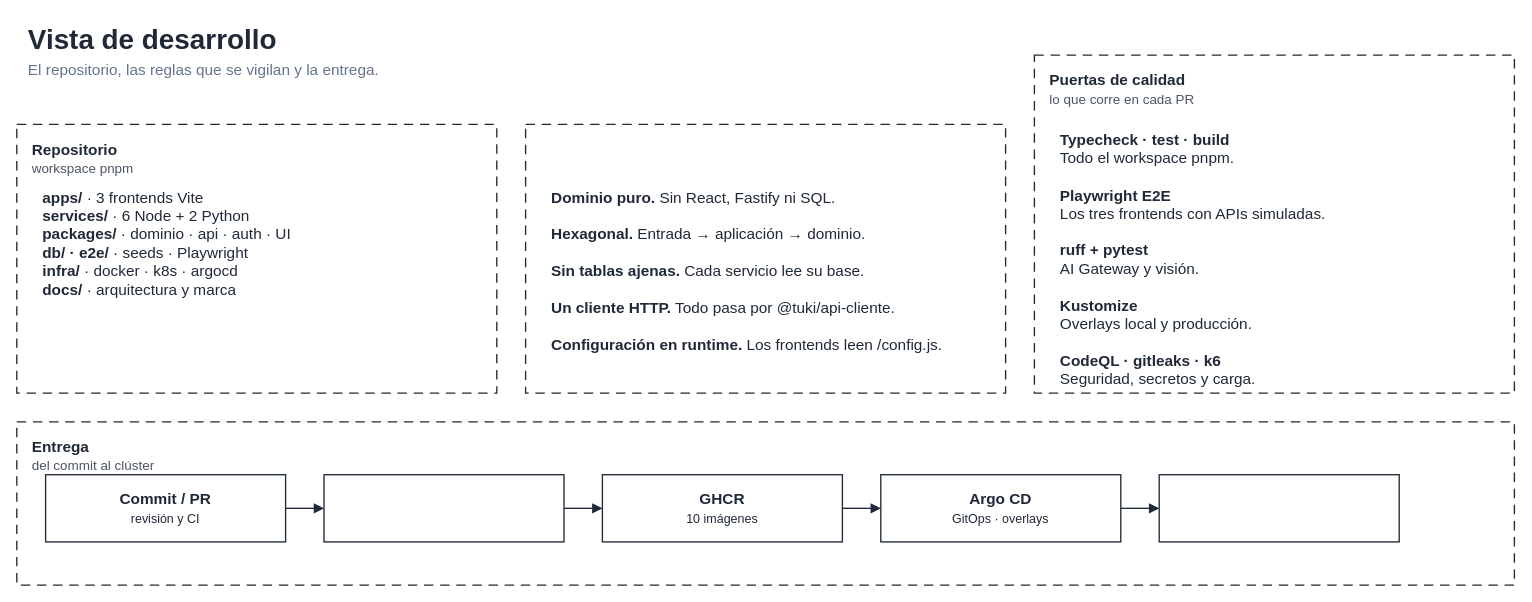
Some shapes in this 1532 by 602 pixel diagram are drawn without their labels. Each missing label, with the box of its shape:
GitHub Actions calidad · e2e · imágenes: (323, 474, 564, 542)
Kubernetes namespace tukituki: (1158, 474, 1399, 542)
Reglas que se vigilan dependencias y contratos: (524, 123, 1006, 393)
